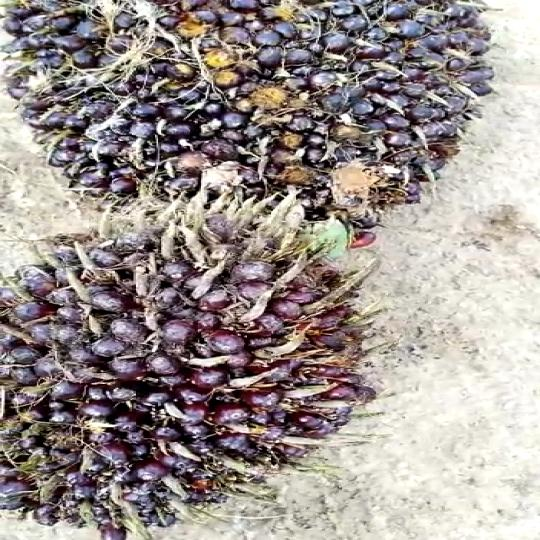kurang masak: (0, 199, 385, 540), (0, 0, 534, 219)
